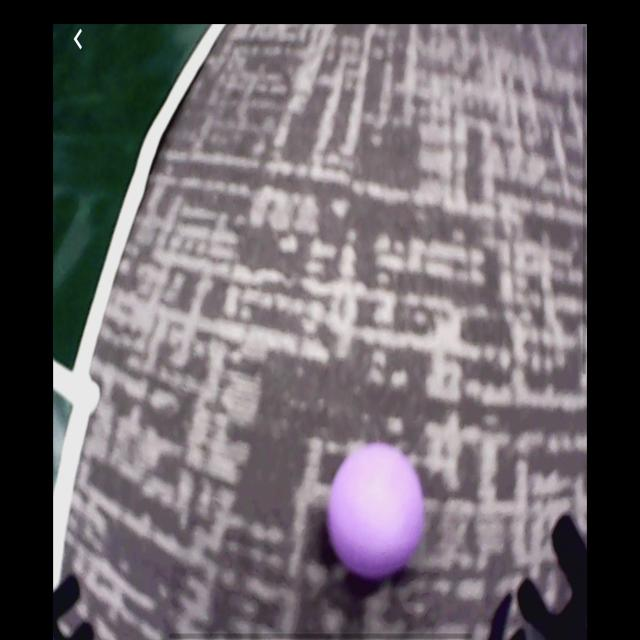ball: (329, 445, 423, 581)
